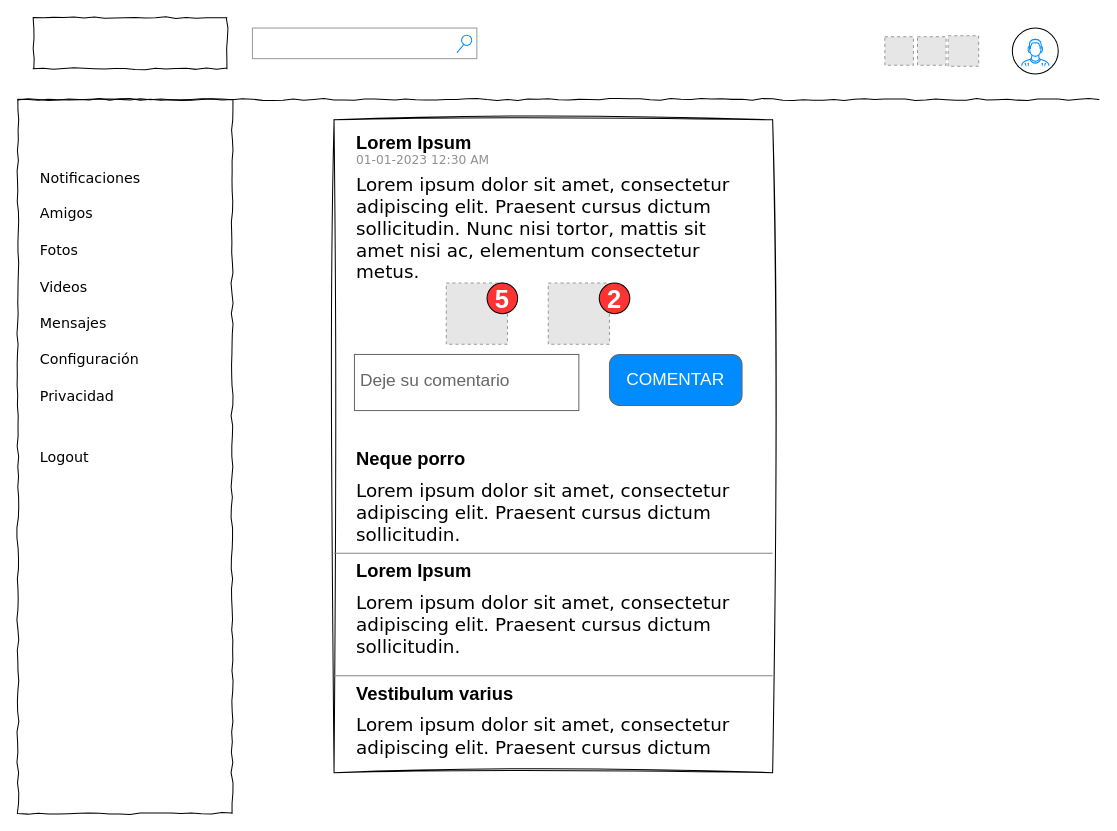
Some shapes in this 1117 by 831 pixel diagram are drawn without their labels. Grey dashed boxes stand in for pictures. Here are the shapes that lost their labels. From the top down, the centre of each, then its label:
At pixel 129 43: "LOGO".
At pixel 364 43: "Search".
